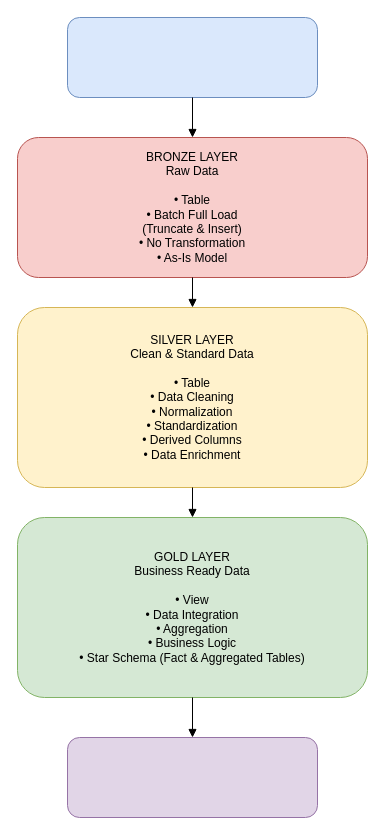
The diagram is 385 pixels wide and 835 high, and some of its shapes have lost their labels. Here are the shapes that lost their labels. From the top down, the box of each, then its label:
(66, 16, 318, 98): SOURCE ERP System (XLSX Files)
(66, 736, 318, 818): REPORTING / BI Dashboards & Reports
